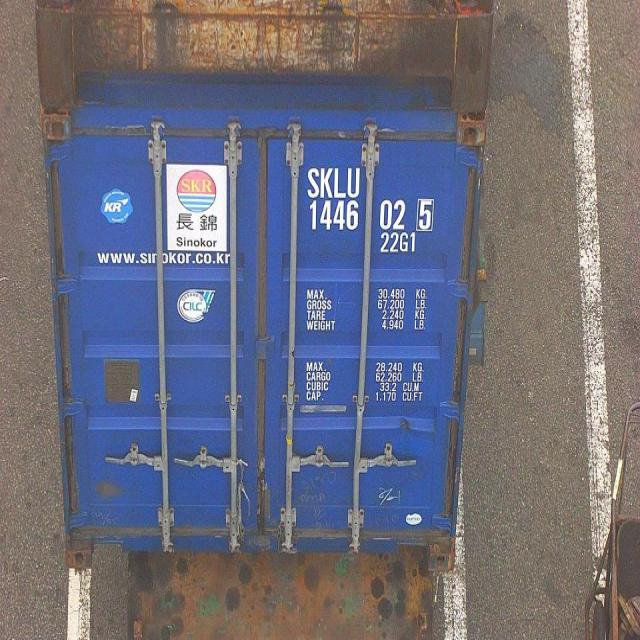ISO: (380, 233, 421, 256)
container_number: (309, 170, 426, 230)
